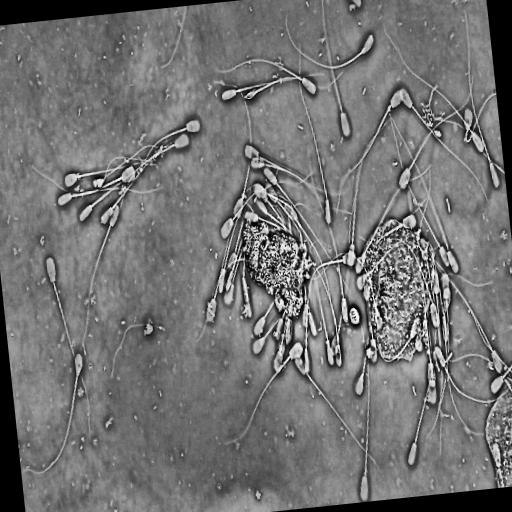dirt-particles: (361, 217, 440, 367), (239, 217, 320, 323), (484, 383, 512, 488), (348, 303, 362, 328), (143, 314, 155, 339)
folded-tail: (257, 72, 343, 92), (465, 93, 496, 142)
loose-tail: (428, 81, 505, 176), (109, 322, 168, 380), (158, 6, 188, 72)
normal: (382, 25, 486, 155), (263, 165, 353, 298), (389, 112, 461, 276), (400, 86, 491, 204), (294, 356, 382, 473), (389, 112, 452, 269), (398, 72, 475, 192), (335, 86, 405, 217), (44, 253, 92, 437), (434, 257, 506, 376), (355, 165, 431, 274), (225, 342, 303, 445), (21, 350, 84, 477), (307, 154, 350, 324), (463, 7, 501, 190), (298, 39, 332, 227), (348, 119, 389, 268), (80, 203, 120, 353), (244, 143, 332, 209), (283, 10, 377, 71), (214, 81, 252, 217), (302, 241, 343, 367), (406, 324, 439, 467), (320, 0, 352, 140), (435, 346, 512, 403), (216, 57, 318, 97), (426, 273, 450, 439), (99, 156, 154, 226), (30, 163, 137, 197), (77, 167, 140, 224), (220, 72, 326, 103), (243, 71, 344, 101), (56, 185, 165, 209), (144, 116, 202, 160), (63, 160, 142, 189), (136, 132, 191, 173), (360, 322, 371, 502), (463, 91, 496, 145), (489, 364, 512, 395)
